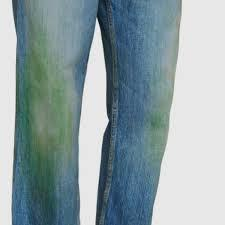earth: (23, 52, 67, 175), (145, 102, 164, 144)
